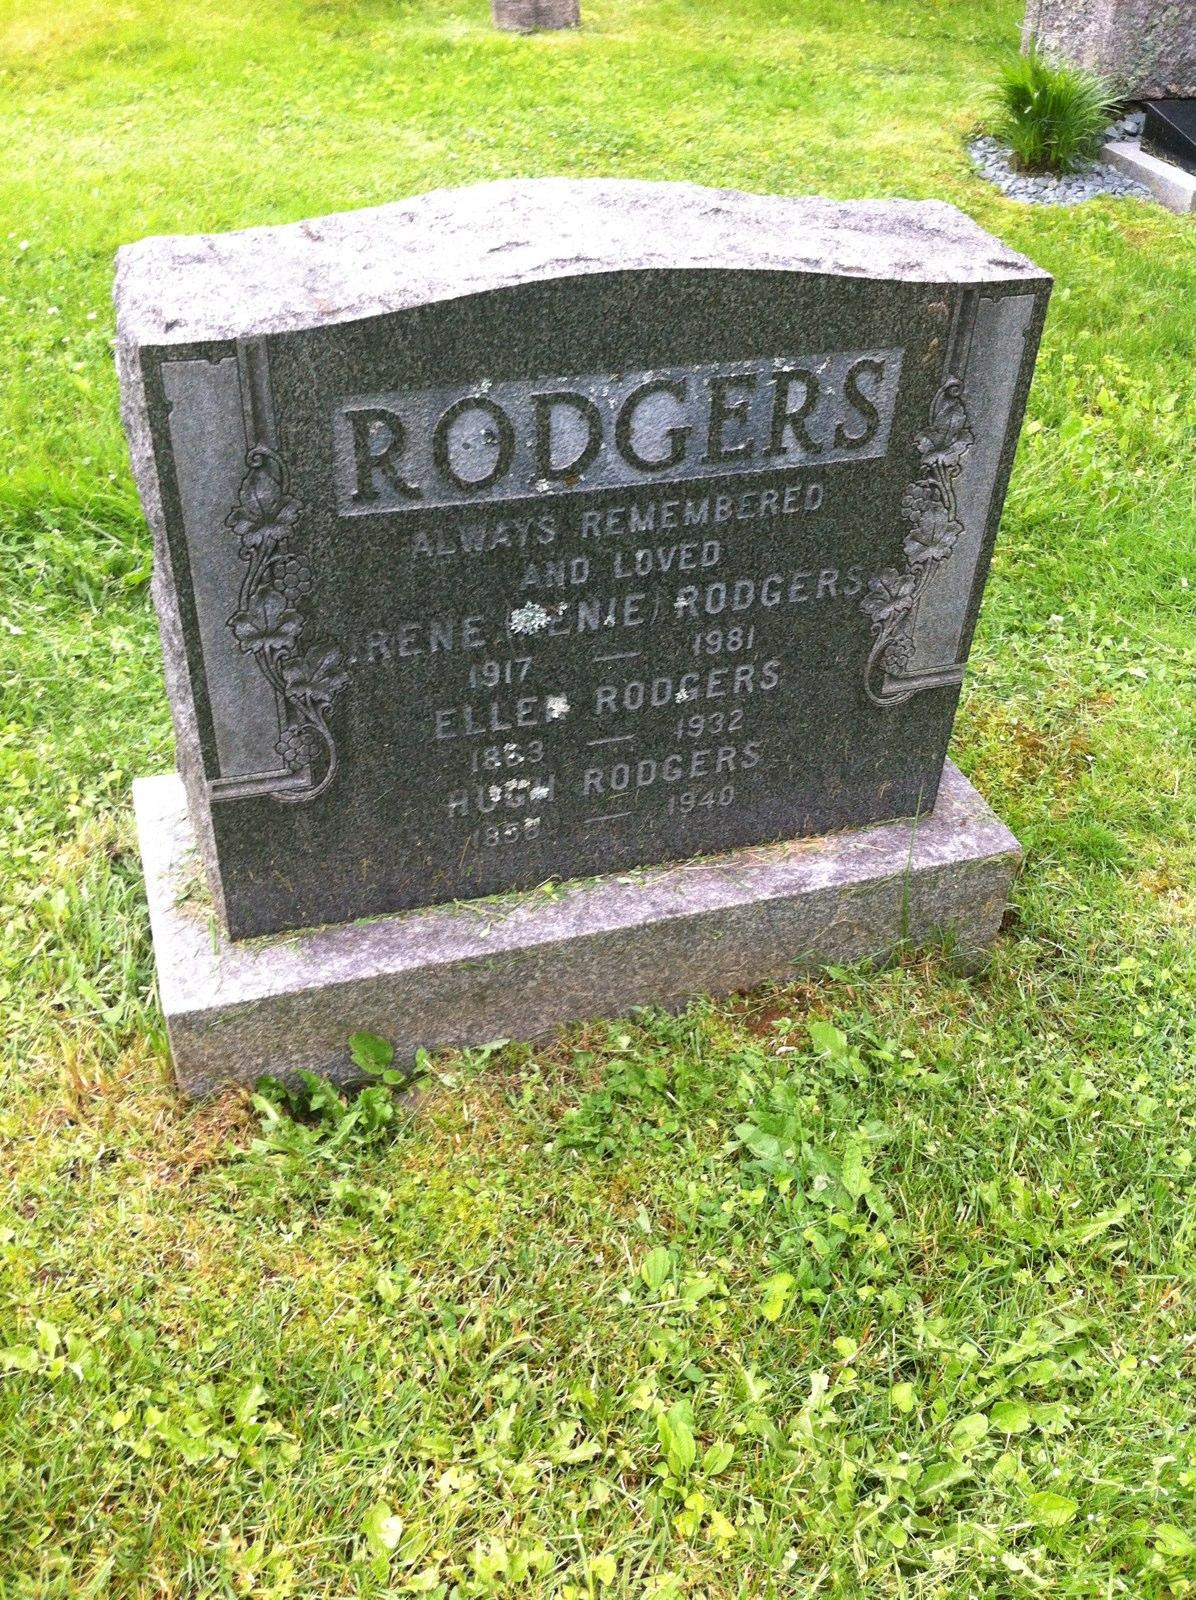upright: (107, 173, 1055, 1111)
